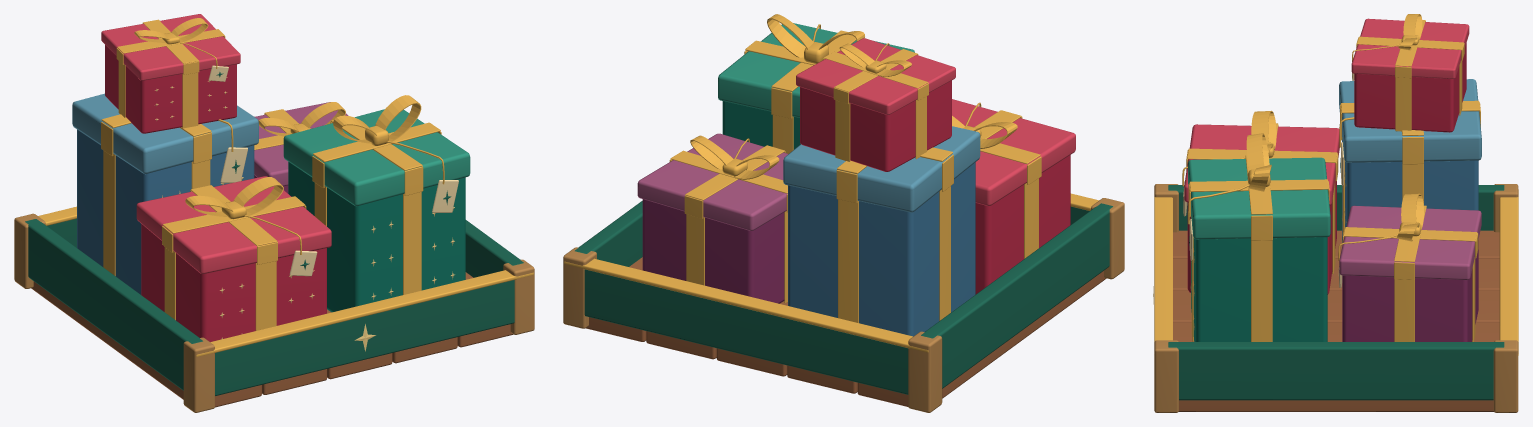
File: present_pile.glb
3 views of the same model, side by side, from view 1: azimuth 30°, elevation 25°; view 2: azimuth 150°, elevation 25°; view 3: azimuth 270°, elevation 25° (orthographic). The views are drawn at different scales.
Parts seen in each view (by area): view 1: present_pile; view 2: present_pile; view 3: present_pile.
Part boxes in pixels (left/top/right/bottom): present_pile: left=14, top=14, right=534, bottom=412; present_pile: left=563, top=14, right=1124, bottom=412; present_pile: left=1153, top=14, right=1518, bottom=412.
Bounding box in the file's own units: 1.28 × 0.9763 × 1.18.
